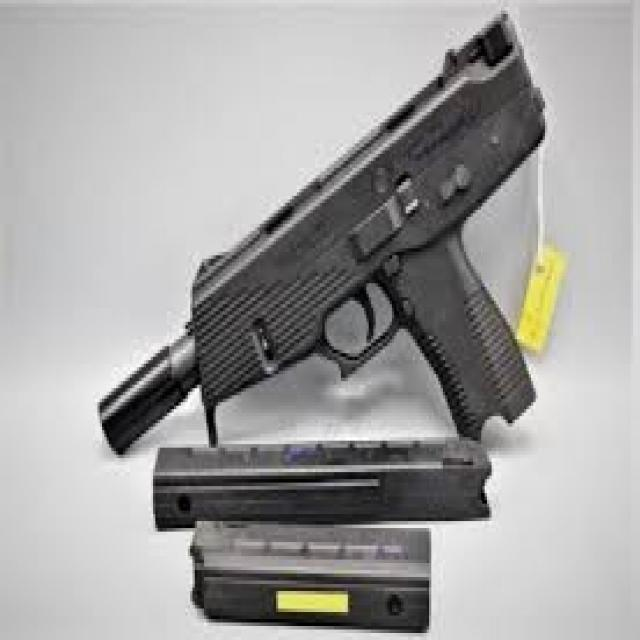semi automatic: (88, 11, 568, 624)
